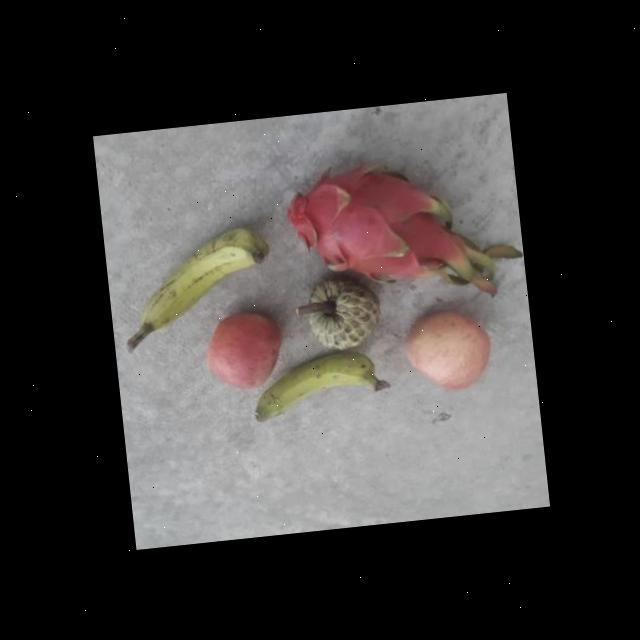Sakya fruit: (301, 270, 384, 354)
apple: (398, 304, 494, 396), (200, 308, 288, 392)
banana: (114, 221, 284, 354), (247, 345, 391, 423)
pitaya: (283, 154, 467, 292)
